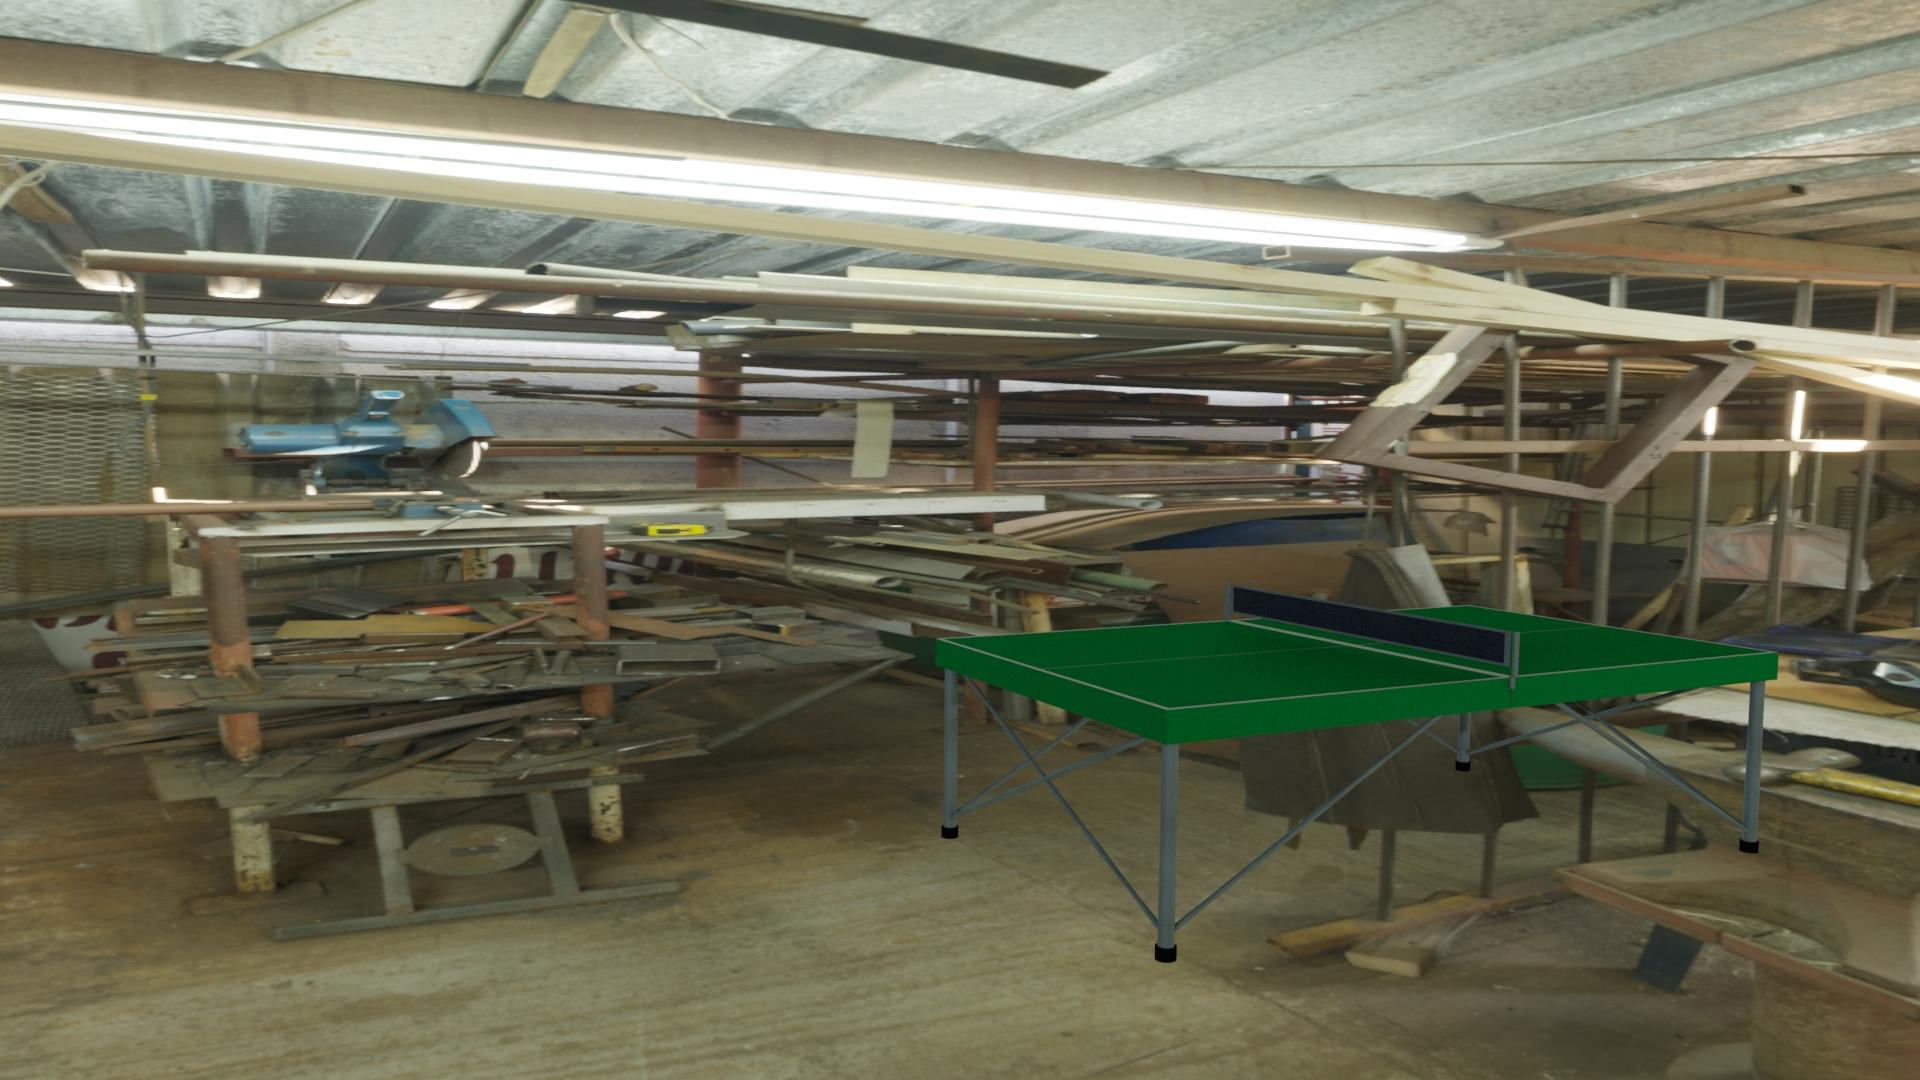table: (943, 605, 1771, 708)
